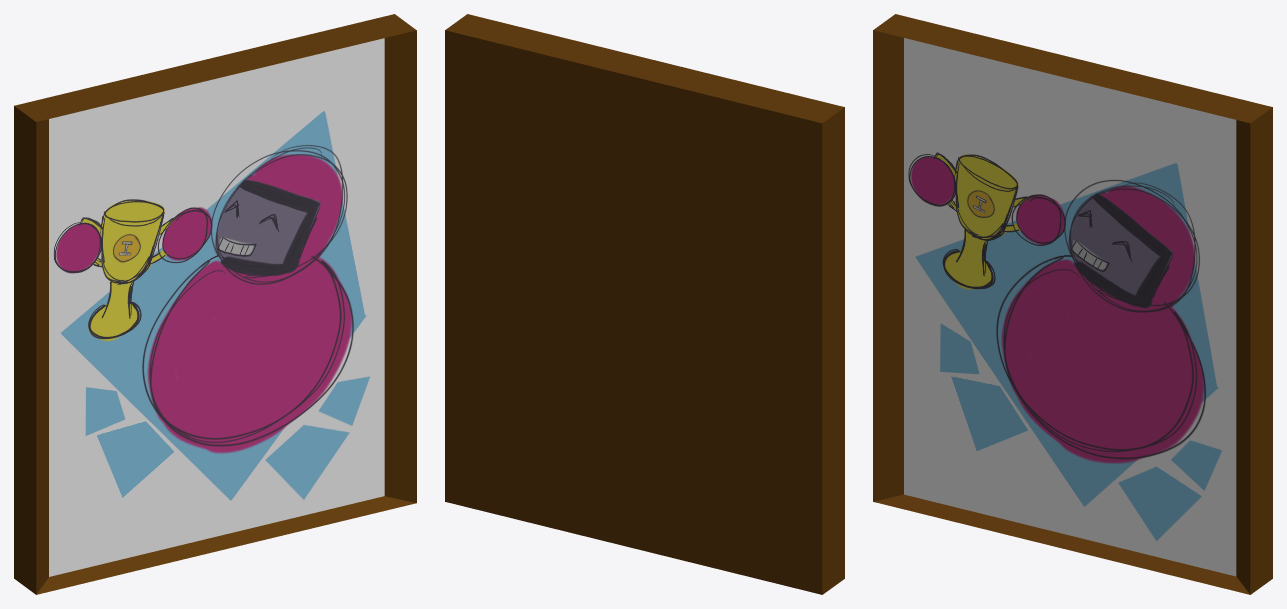
File: framedpicture.fbx
The picture shows the model from 3 angles, left to right: view 1: azimuth 30°, elevation 25°; view 2: azimuth 150°, elevation 25°; view 3: azimuth 330°, elevation 25°; orthographic projection.
Parts seen in each view (by area): view 1: framedpicture; view 2: framedpicture; view 3: framedpicture.
Boxes of the visible parts, x1,y1,x2,y2 form: framedpicture: (14, 14, 416, 594); framedpicture: (445, 14, 844, 594); framedpicture: (873, 14, 1272, 594).
Bounding box in the file's own units: 0.4202 × 0.5 × 0.0449.
